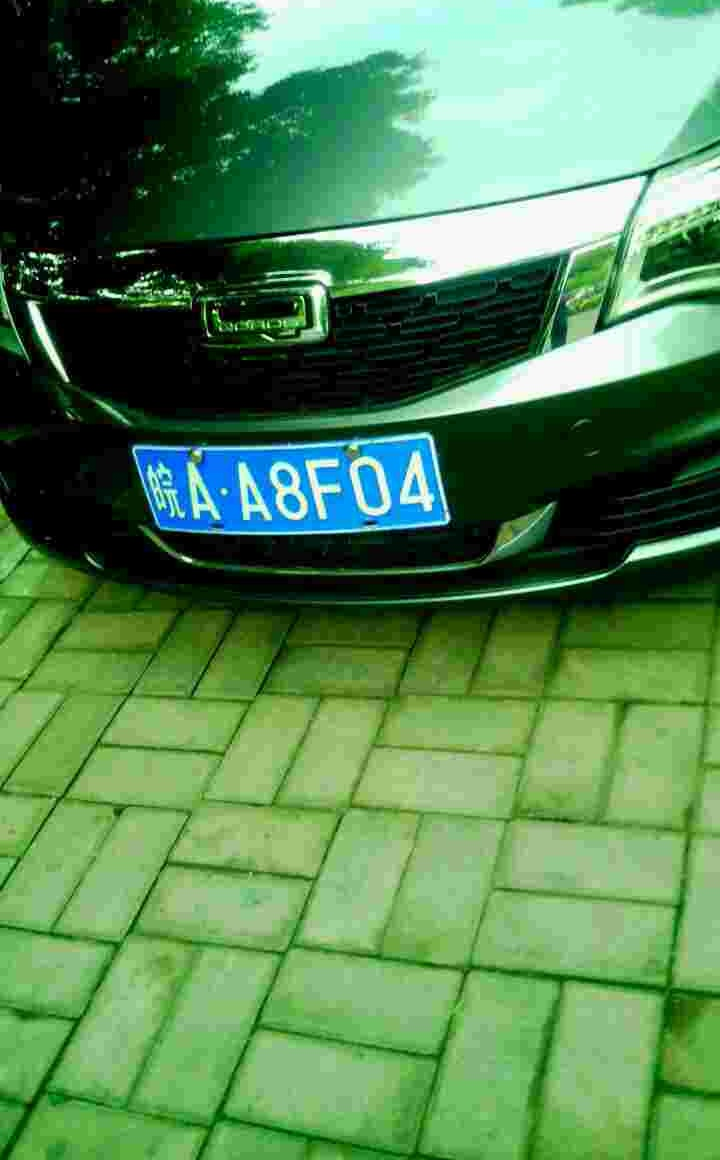license_plate: (148, 436, 453, 541)
